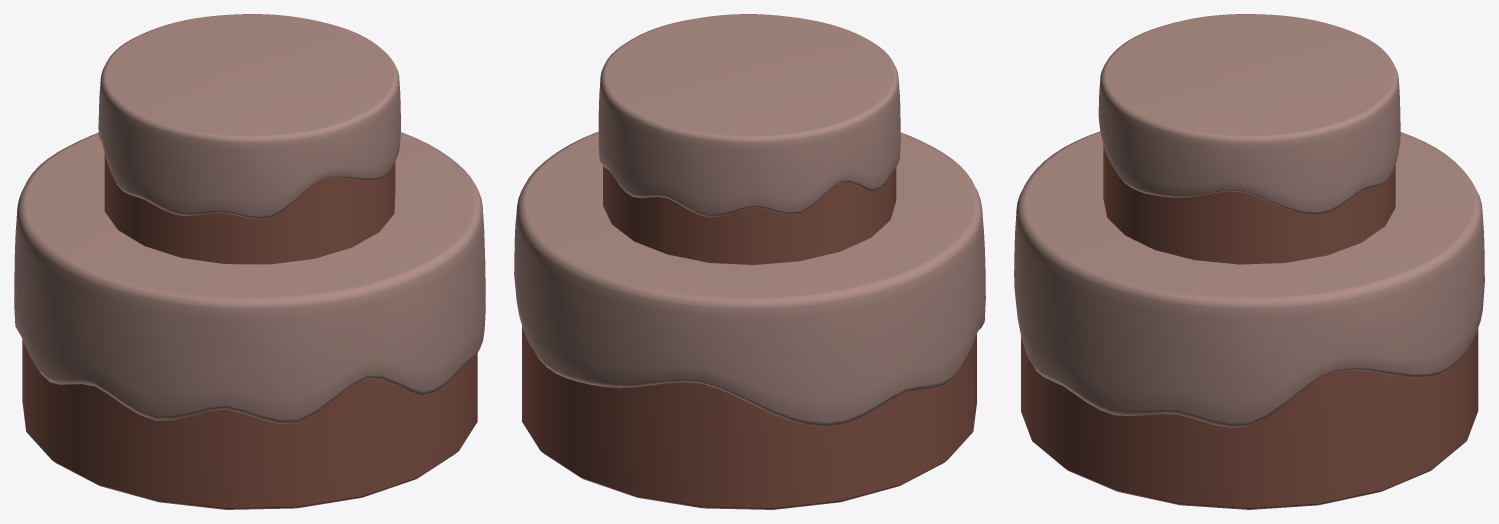
Rendered from Store_5_Cake_2.glb.
3 views of the same model, side by side, from view 1: azimuth 30°, elevation 25°; view 2: azimuth 150°, elevation 25°; view 3: azimuth 270°, elevation 25° (orthographic).
Visible parts, largest first — view 1: Store_5_Cake_2; view 2: Store_5_Cake_2; view 3: Store_5_Cake_2.
Part boxes in pixels (x1,y1,x2,y2): Store_5_Cake_2: (14, 14, 485, 509); Store_5_Cake_2: (514, 14, 985, 509); Store_5_Cake_2: (1014, 14, 1484, 509).
Bounding box in the file's own units: 2.51 × 2 × 2.5.
1 material, 1 textured.
